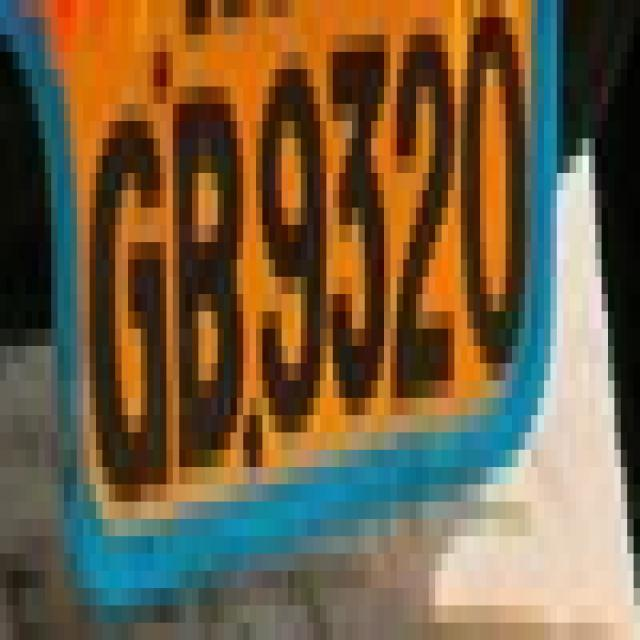0: (461, 0, 534, 372)
3: (325, 33, 390, 430)
9: (253, 62, 327, 460)
B: (170, 80, 246, 467)
G: (82, 97, 168, 506)
